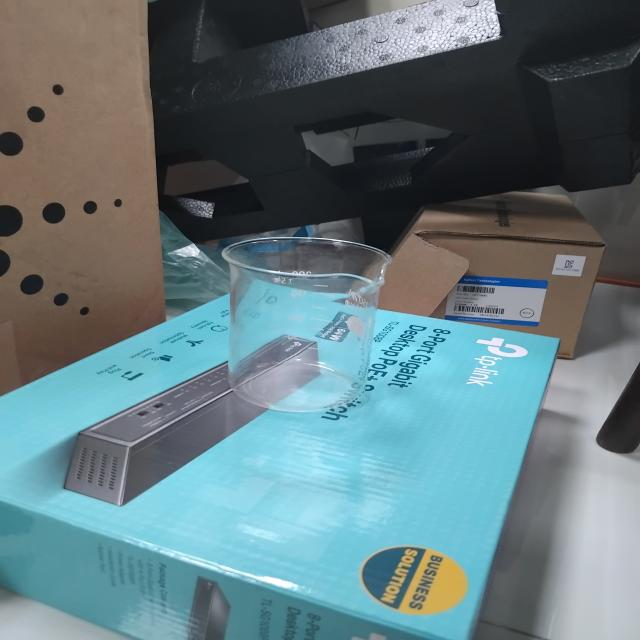Beaker: (184, 200, 422, 431)
